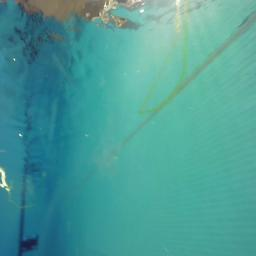back: (19, 234, 40, 252)
